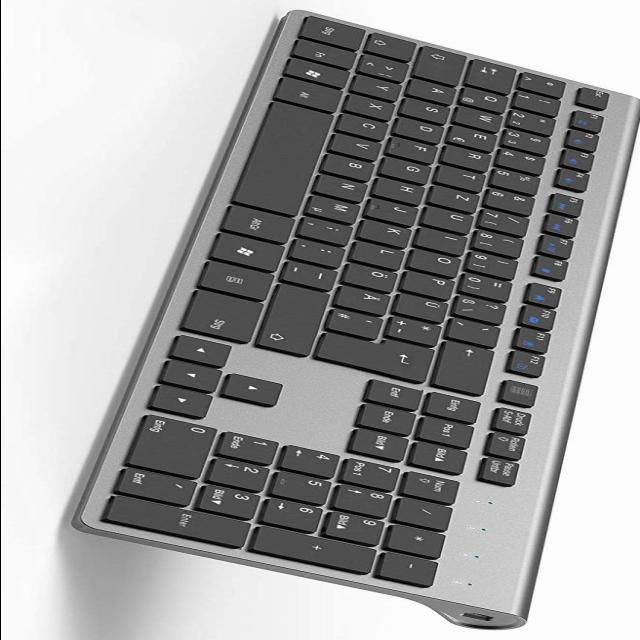0: (463, 271, 517, 301)
1: (516, 90, 566, 116)
2: (510, 108, 559, 134)
3: (505, 128, 555, 154)
4: (499, 147, 549, 173)
5: (493, 166, 545, 194)
6: (487, 188, 539, 215)
7: (481, 208, 533, 236)
8: (476, 228, 528, 258)
9: (470, 250, 522, 280)
a: (410, 78, 462, 104)
accent: (451, 316, 505, 346)
ae: (339, 284, 395, 315)
alt-left: (276, 76, 346, 112)
altgr-right: (225, 204, 300, 242)
b: (324, 152, 380, 180)
c: (340, 111, 394, 139)
caret: (521, 71, 569, 97)
comma: (302, 215, 358, 245)
d: (397, 116, 449, 142)
del: (438, 340, 500, 394)
e: (450, 124, 502, 150)
enter: (319, 332, 440, 382)
f: (389, 135, 443, 163)
g: (383, 155, 437, 183)
h: (376, 176, 430, 205)
hash: (330, 307, 388, 339)
i: (418, 226, 474, 254)
j: (368, 196, 424, 226)
k: (361, 217, 417, 247)
keyboard: (57, 7, 640, 631)
l: (354, 239, 410, 269)
less: (362, 53, 414, 82)
m: (308, 193, 366, 223)
minus: (285, 259, 343, 289)
n: (317, 173, 373, 201)
o: (411, 248, 467, 276)
oe: (346, 261, 402, 291)
p: (403, 270, 459, 299)
plus: (389, 315, 447, 345)
point: (294, 237, 350, 267)
q: (462, 86, 514, 112)
r: (444, 144, 496, 170)
s: (403, 96, 455, 122)
shift-left: (367, 31, 421, 61)
shift-lock: (417, 45, 471, 86)
shift-right: (261, 283, 334, 355)
space: (236, 103, 338, 215)
ss: (457, 294, 511, 324)
strg-left: (301, 14, 369, 50)
strg-right: (186, 289, 268, 345)
t: (437, 165, 491, 191)
tab: (469, 58, 521, 94)
u: (424, 205, 478, 233)
ue: (396, 292, 454, 322)
v: (333, 132, 387, 160)
w: (457, 105, 509, 131)
x: (348, 93, 400, 119)
y: (355, 74, 407, 100)
z: (431, 184, 485, 212)
